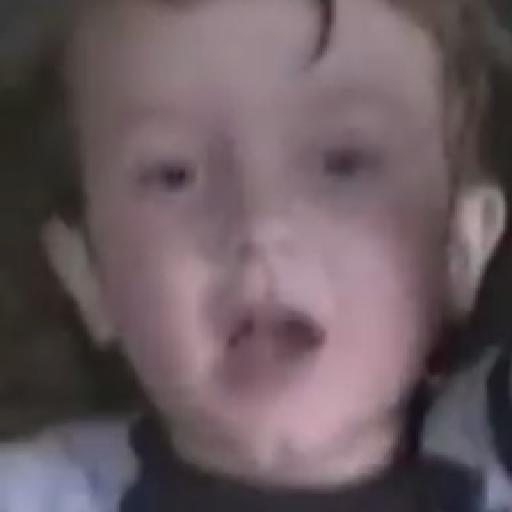Autism: (43, 16, 512, 491)
